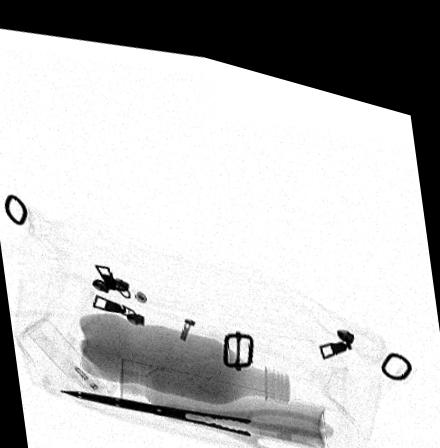Scissors: (56, 383, 340, 447)
